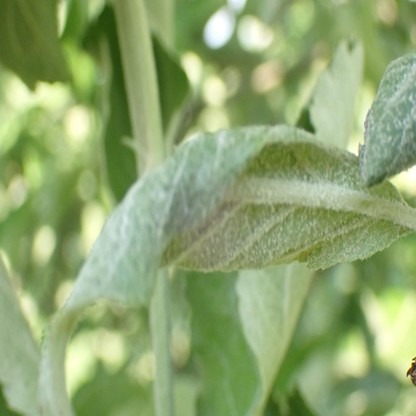powdery_mildew: (73, 122, 415, 304), (359, 52, 416, 185)
